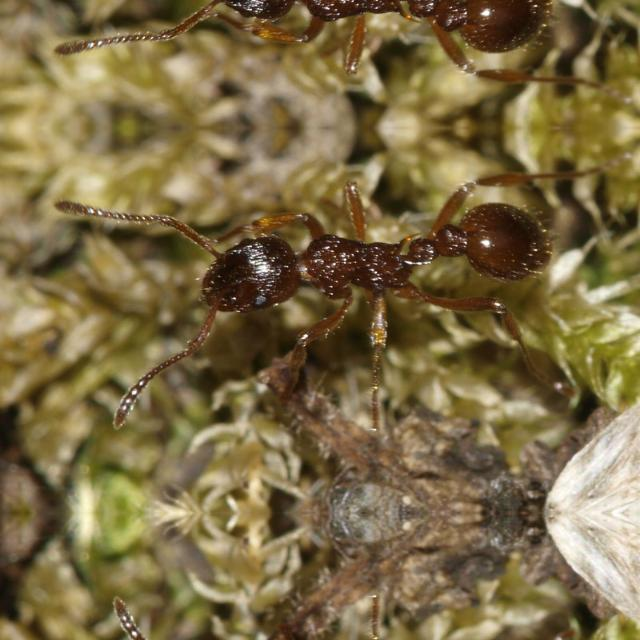Myrmica: (64, 173, 558, 387), (64, 0, 558, 80)
